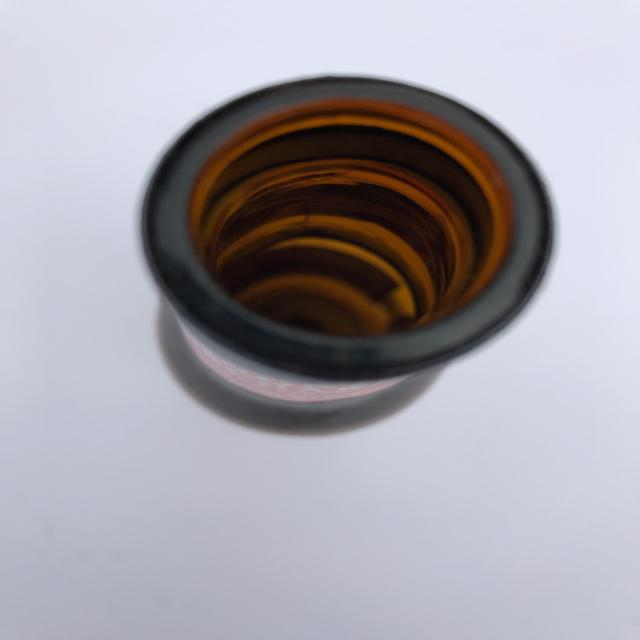glass: (138, 74, 556, 437)
